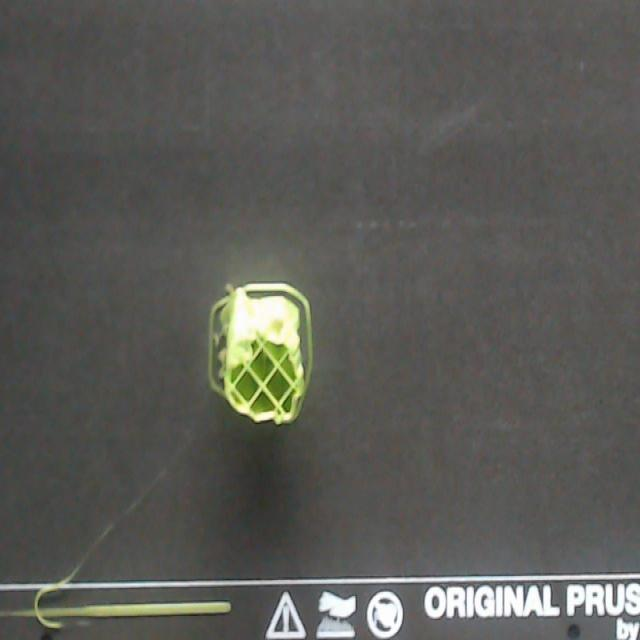mistake: (32, 551, 88, 629), (96, 525, 114, 543), (99, 525, 114, 540), (224, 285, 233, 294)
